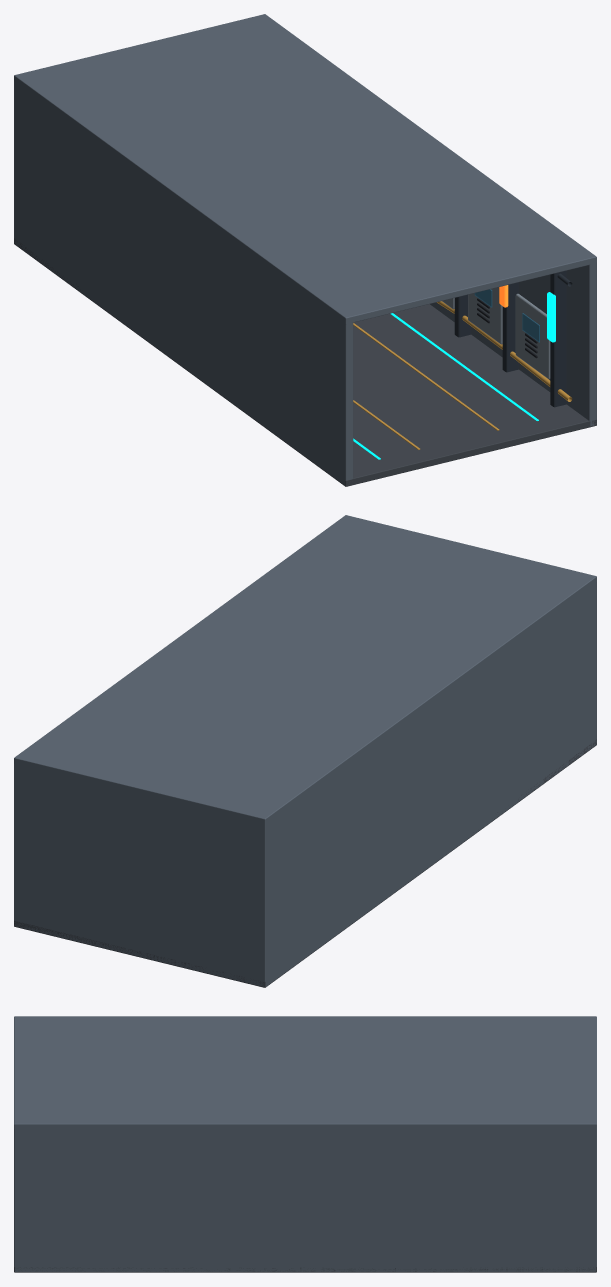
Rendered from scifi_command_corridor.glb.
3 views of the same model, one above another, from view 1: azimuth 30°, elevation 25°; view 2: azimuth 150°, elevation 25°; view 3: azimuth 270°, elevation 25° (orthographic). The views are drawn at different scales.
Parts seen in each view (by area): view 1: Scifi_Ceiling, Scifi_LeftHull, Scifi_Deck, Scifi_RightHull, Rib_1_Right, Right_ServicePanel_1, Scifi_CommandBulkhead, Right_ServicePanel_2, Rib_2_Right, Right_Conduit_1; view 2: Scifi_Ceiling, Scifi_LeftHull, Scifi_CommandBulkhead, Scifi_RightHull, Scifi_Deck; view 3: Scifi_RightHull, Scifi_Ceiling, Scifi_LeftHull, Scifi_CommandBulkhead, Scifi_Deck.
Part boxes in pixels (x1=…): Scifi_Ceiling: x1=14, y1=14, x2=596, y2=323; Scifi_LeftHull: x1=14, y1=74, x2=353, y2=485; Scifi_Deck: x1=14, y1=238, x2=596, y2=486; Scifi_RightHull: x1=260, y1=15, x2=596, y2=426; Rib_1_Right: x1=550, y1=270, x2=566, y2=407; Right_ServicePanel_1: x1=515, y1=293, x2=550, y2=379; Scifi_CommandBulkhead: x1=14, y1=15, x2=267, y2=245; Right_ServicePanel_2: x1=468, y1=287, x2=502, y2=344; Rib_2_Right: x1=502, y1=282, x2=518, y2=372; Right_Conduit_1: x1=437, y1=301, x2=572, y2=401; Scifi_Ceiling: x1=14, y1=515, x2=596, y2=824; Scifi_LeftHull: x1=259, y1=575, x2=596, y2=986; Scifi_CommandBulkhead: x1=14, y1=755, x2=269, y2=987; Scifi_RightHull: x1=14, y1=516, x2=351, y2=925; Scifi_Deck: x1=14, y1=739, x2=596, y2=987; Scifi_RightHull: x1=14, y1=1121, x2=595, y2=1271; Scifi_Ceiling: x1=14, y1=1016, x2=596, y2=1129; Scifi_LeftHull: x1=15, y1=1016, x2=595, y2=1019; Scifi_CommandBulkhead: x1=589, y1=1016, x2=596, y2=1266; Scifi_Deck: x1=14, y1=1267, x2=596, y2=1272.
Bounding box in the file's own units: 7 × 4.5 × 16.
